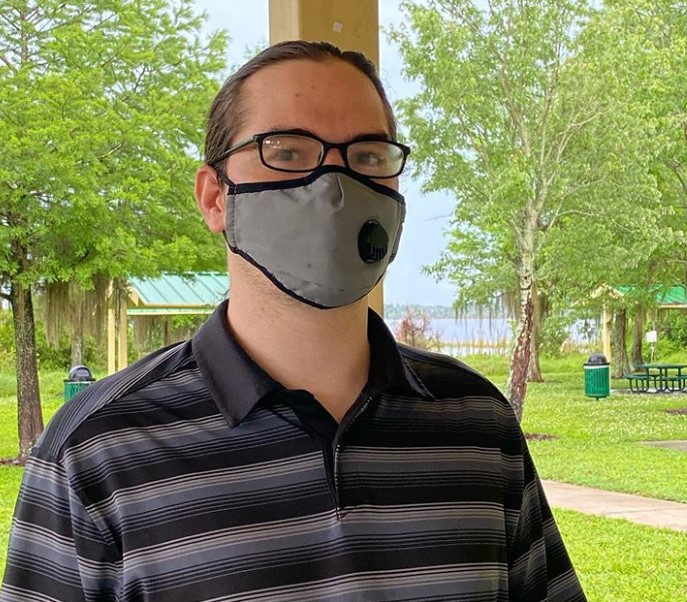face_with_mask: (198, 43, 409, 312)
